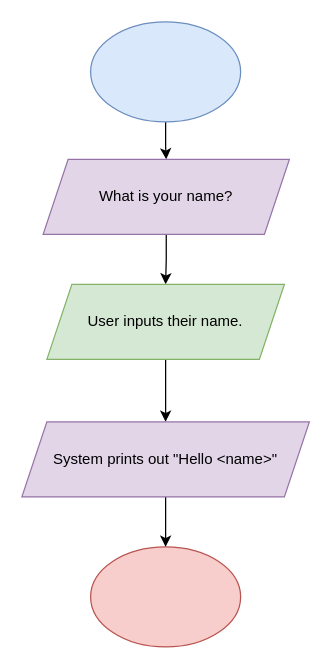
Some shapes in this 331 by 669 pixel diagram are drawn without their labels. The shapes that lost their labels are listed below. From the top down, each one's box as (x1, y1, x2, y2) in pixels, then its label:
(89, 21, 241, 122): Say Hello
(89, 546, 241, 647): End of Process
